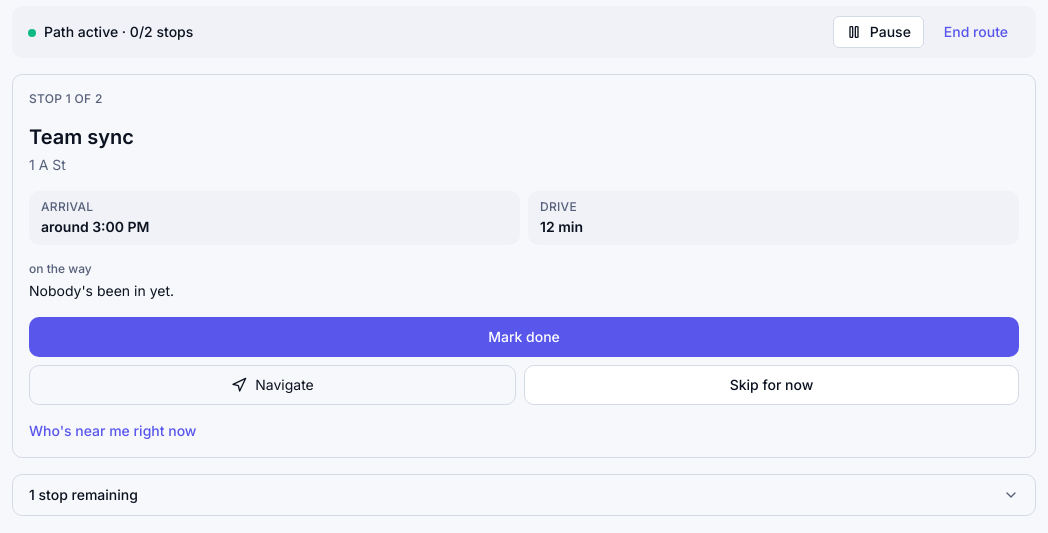
Test: RunningPath — driving carousel › an external card's action reads Mark done and advances with no outcome grid
Check: the button "i'm here" is not shown
Click the button "Mark done".
click(524, 337)  # box [29,317,1019,357]
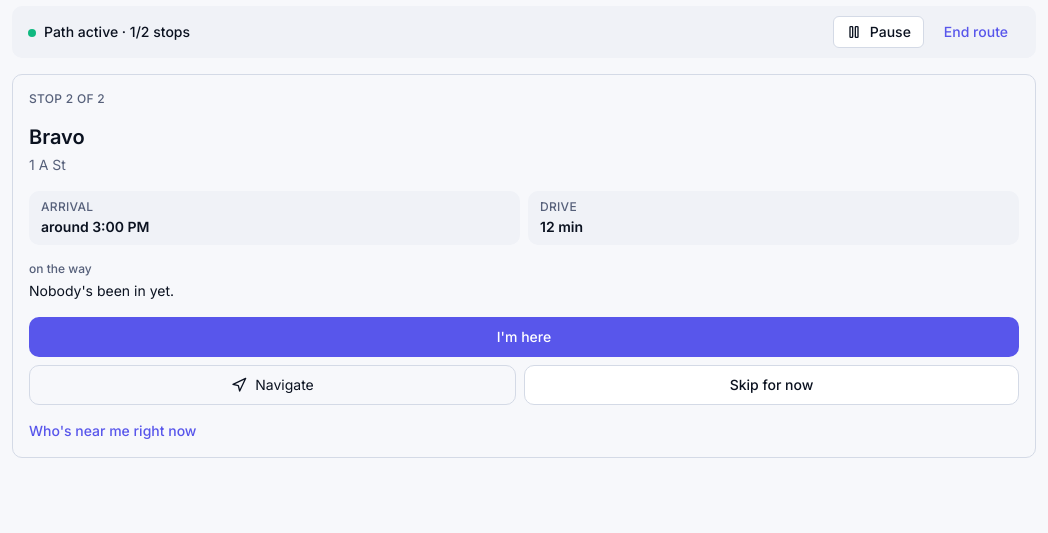
Check: the heading "Bravo" is shown, box [29,125,85,149]
Check: the text "Stop 2 of 2" is shown, box [29,91,105,106]
Check: the heading "Team sync" is gone
